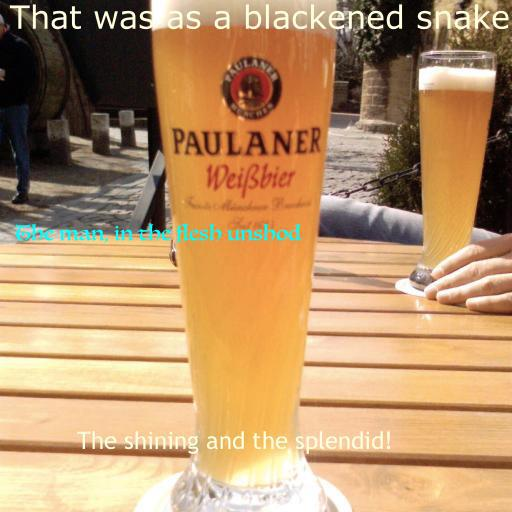Luminari: (15, 224, 301, 243)
Trebuchet MS: (77, 431, 393, 454)
Verdana: (10, 4, 510, 30)
